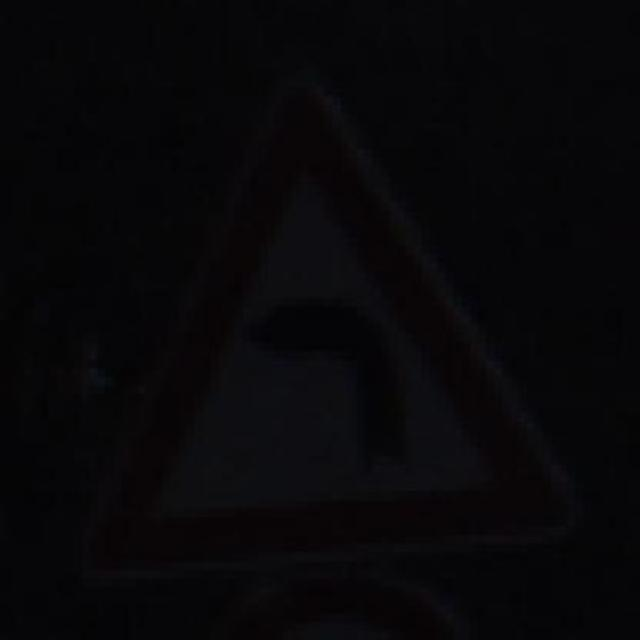Dangerous Left Curve Ahead: (56, 87, 592, 578)
